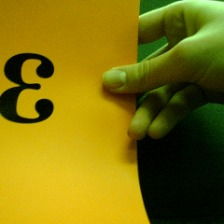orange3: (1, 50, 58, 127)
